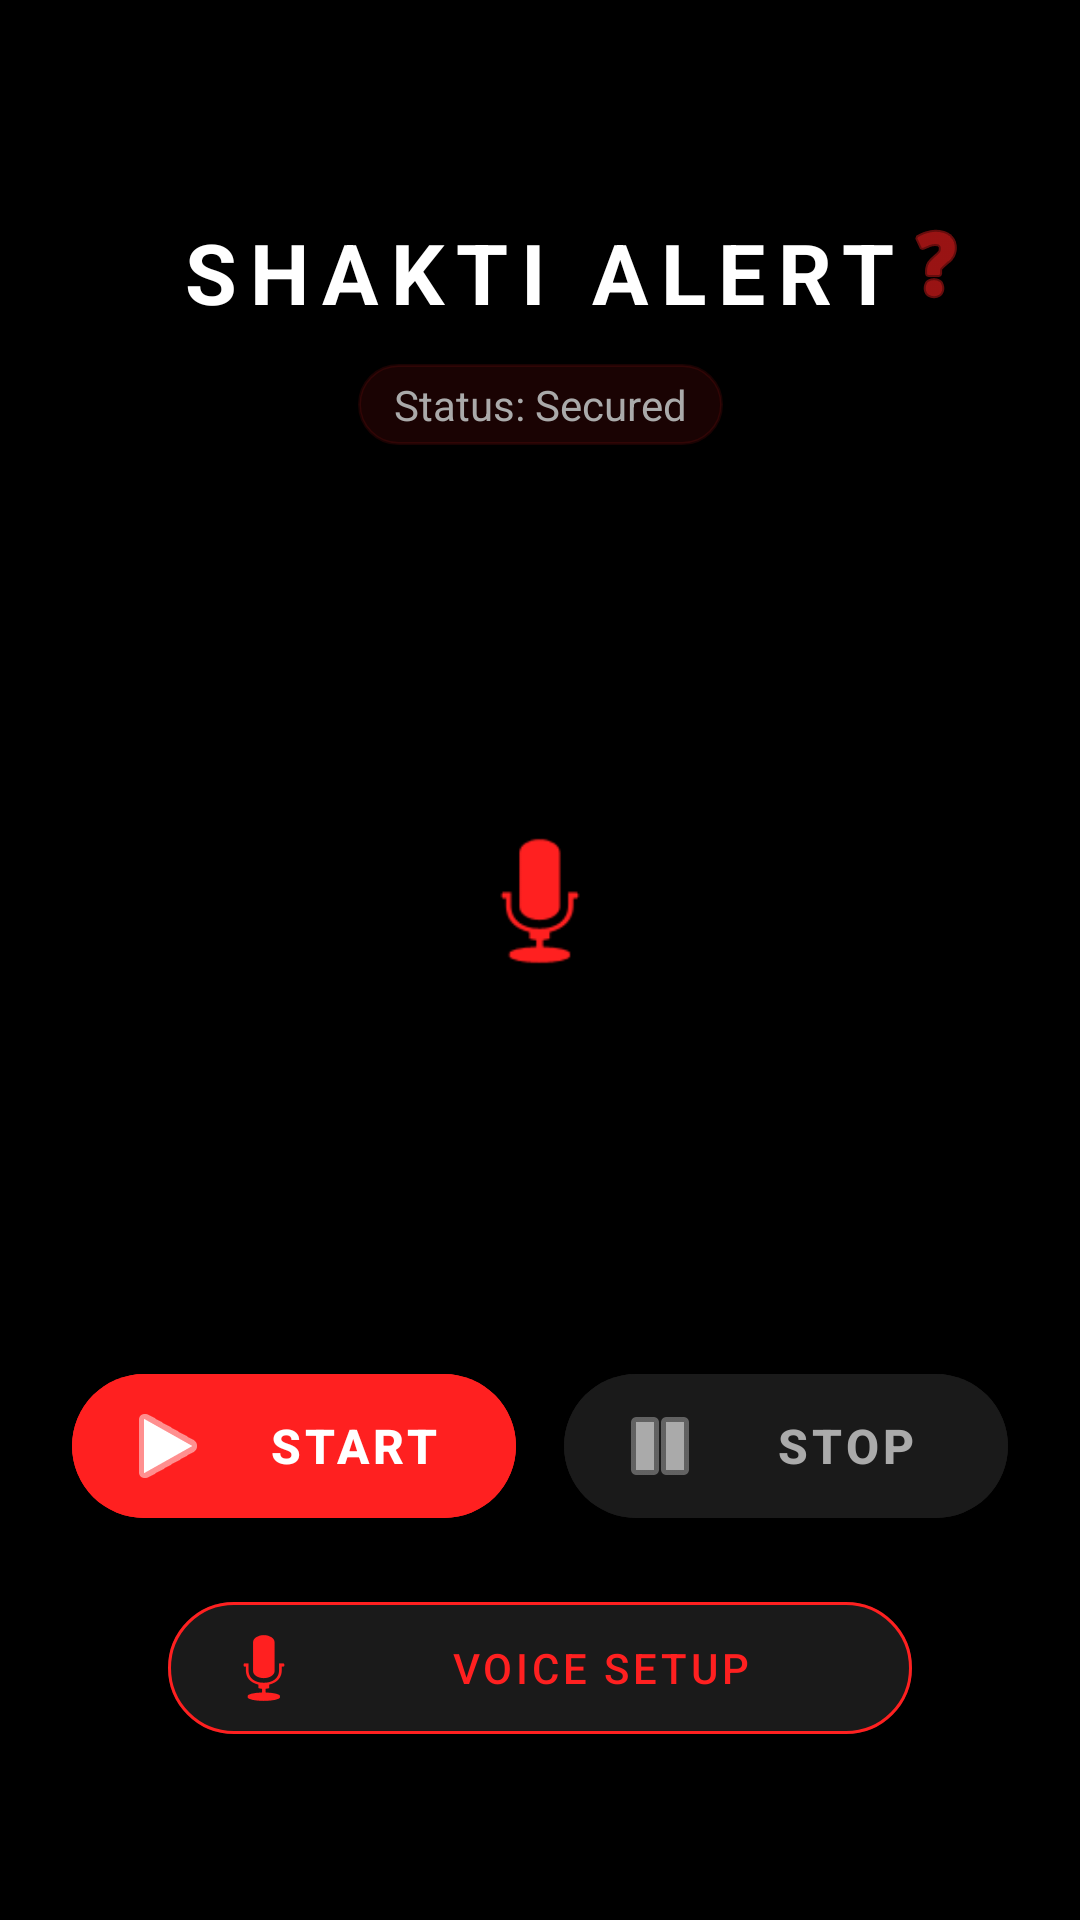

Icons on this 1080*1920 Android screen, each with the point to tap as point (x, y):
speak now: point (540, 901)
